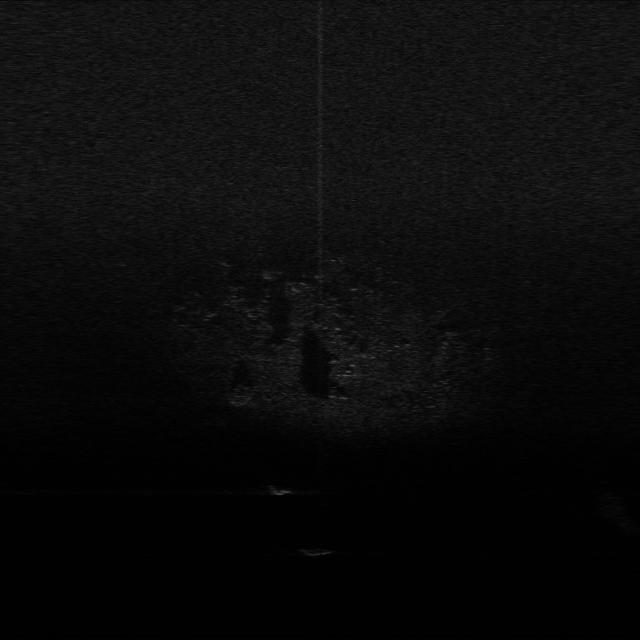cube: (293, 536, 343, 558)
square cage: (264, 479, 298, 500)
